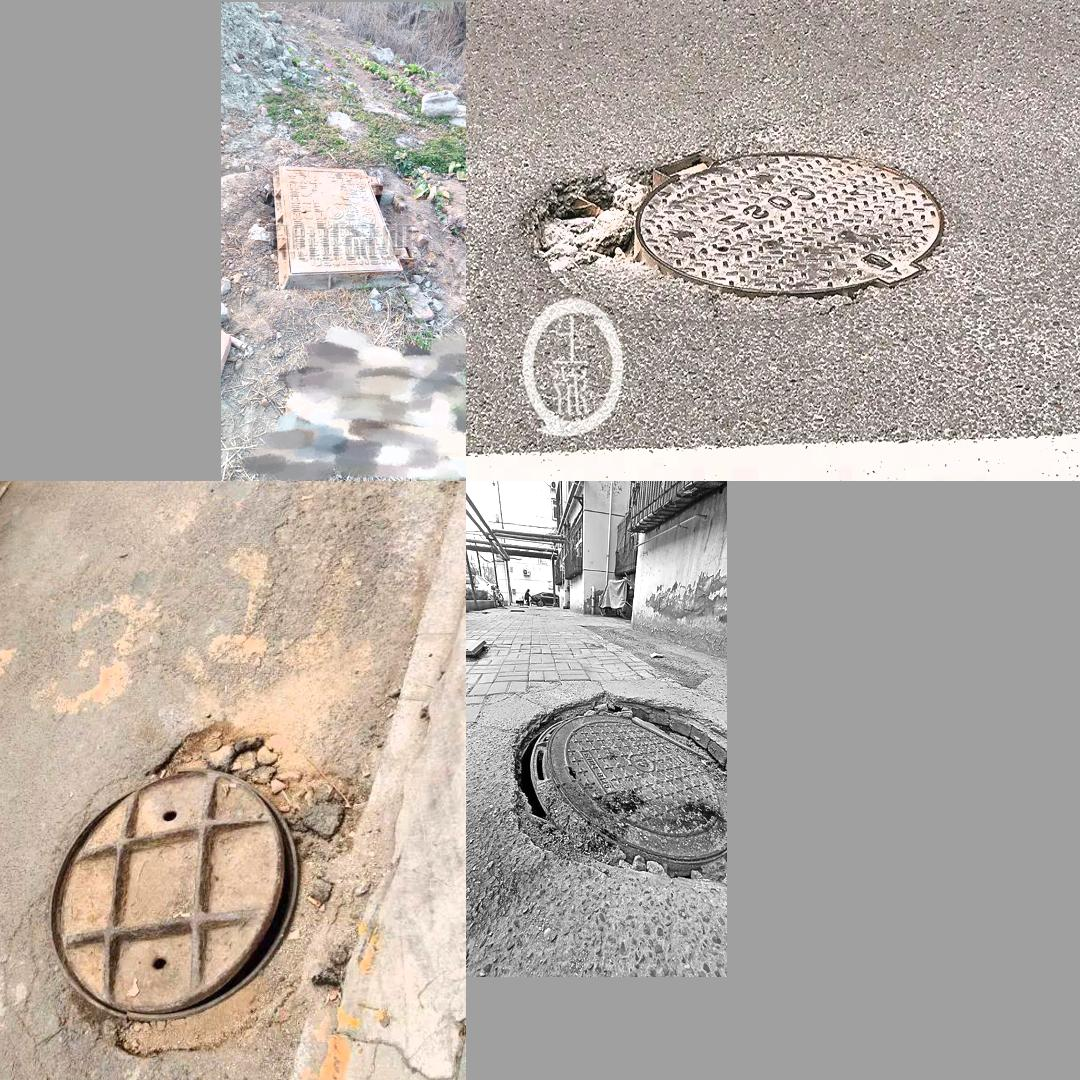circle: (8, 716, 398, 1079), (510, 143, 950, 316), (500, 680, 726, 936), (268, 162, 414, 292)
